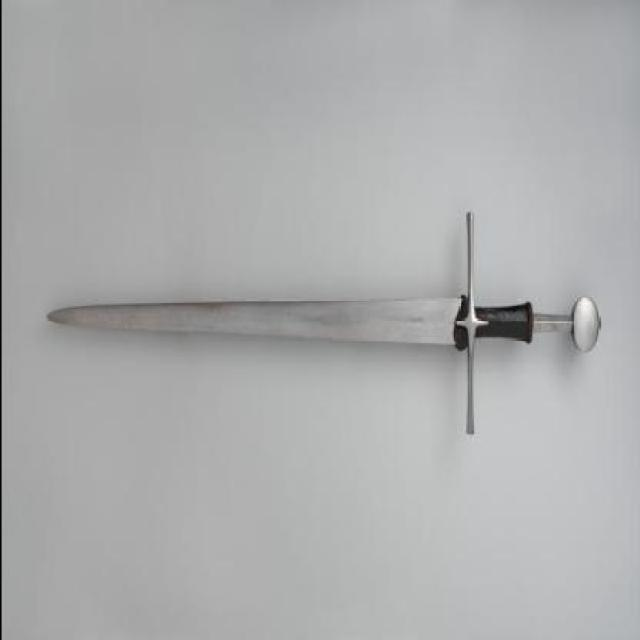weapon: (45, 208, 601, 434)
